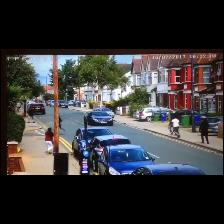person: (199, 117, 209, 143), (45, 128, 53, 154), (172, 116, 180, 137)
